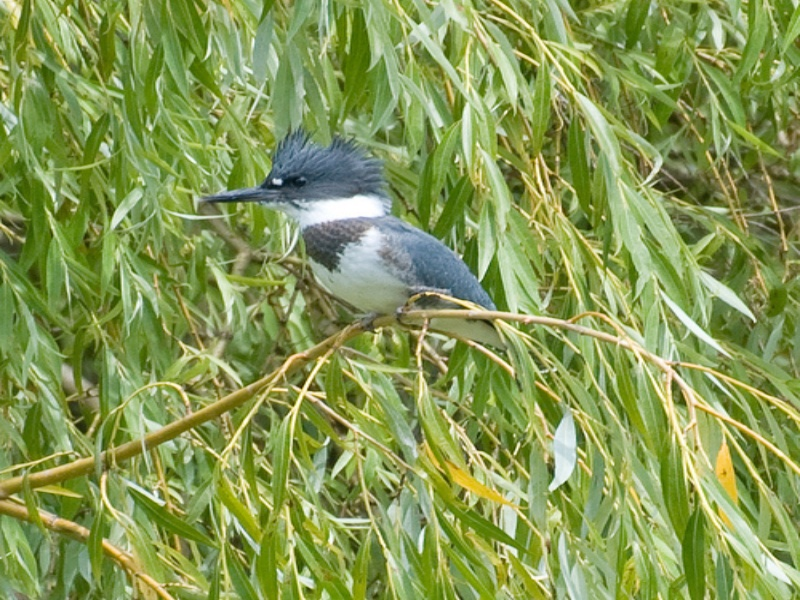kingfisher: (201, 126, 523, 359)
